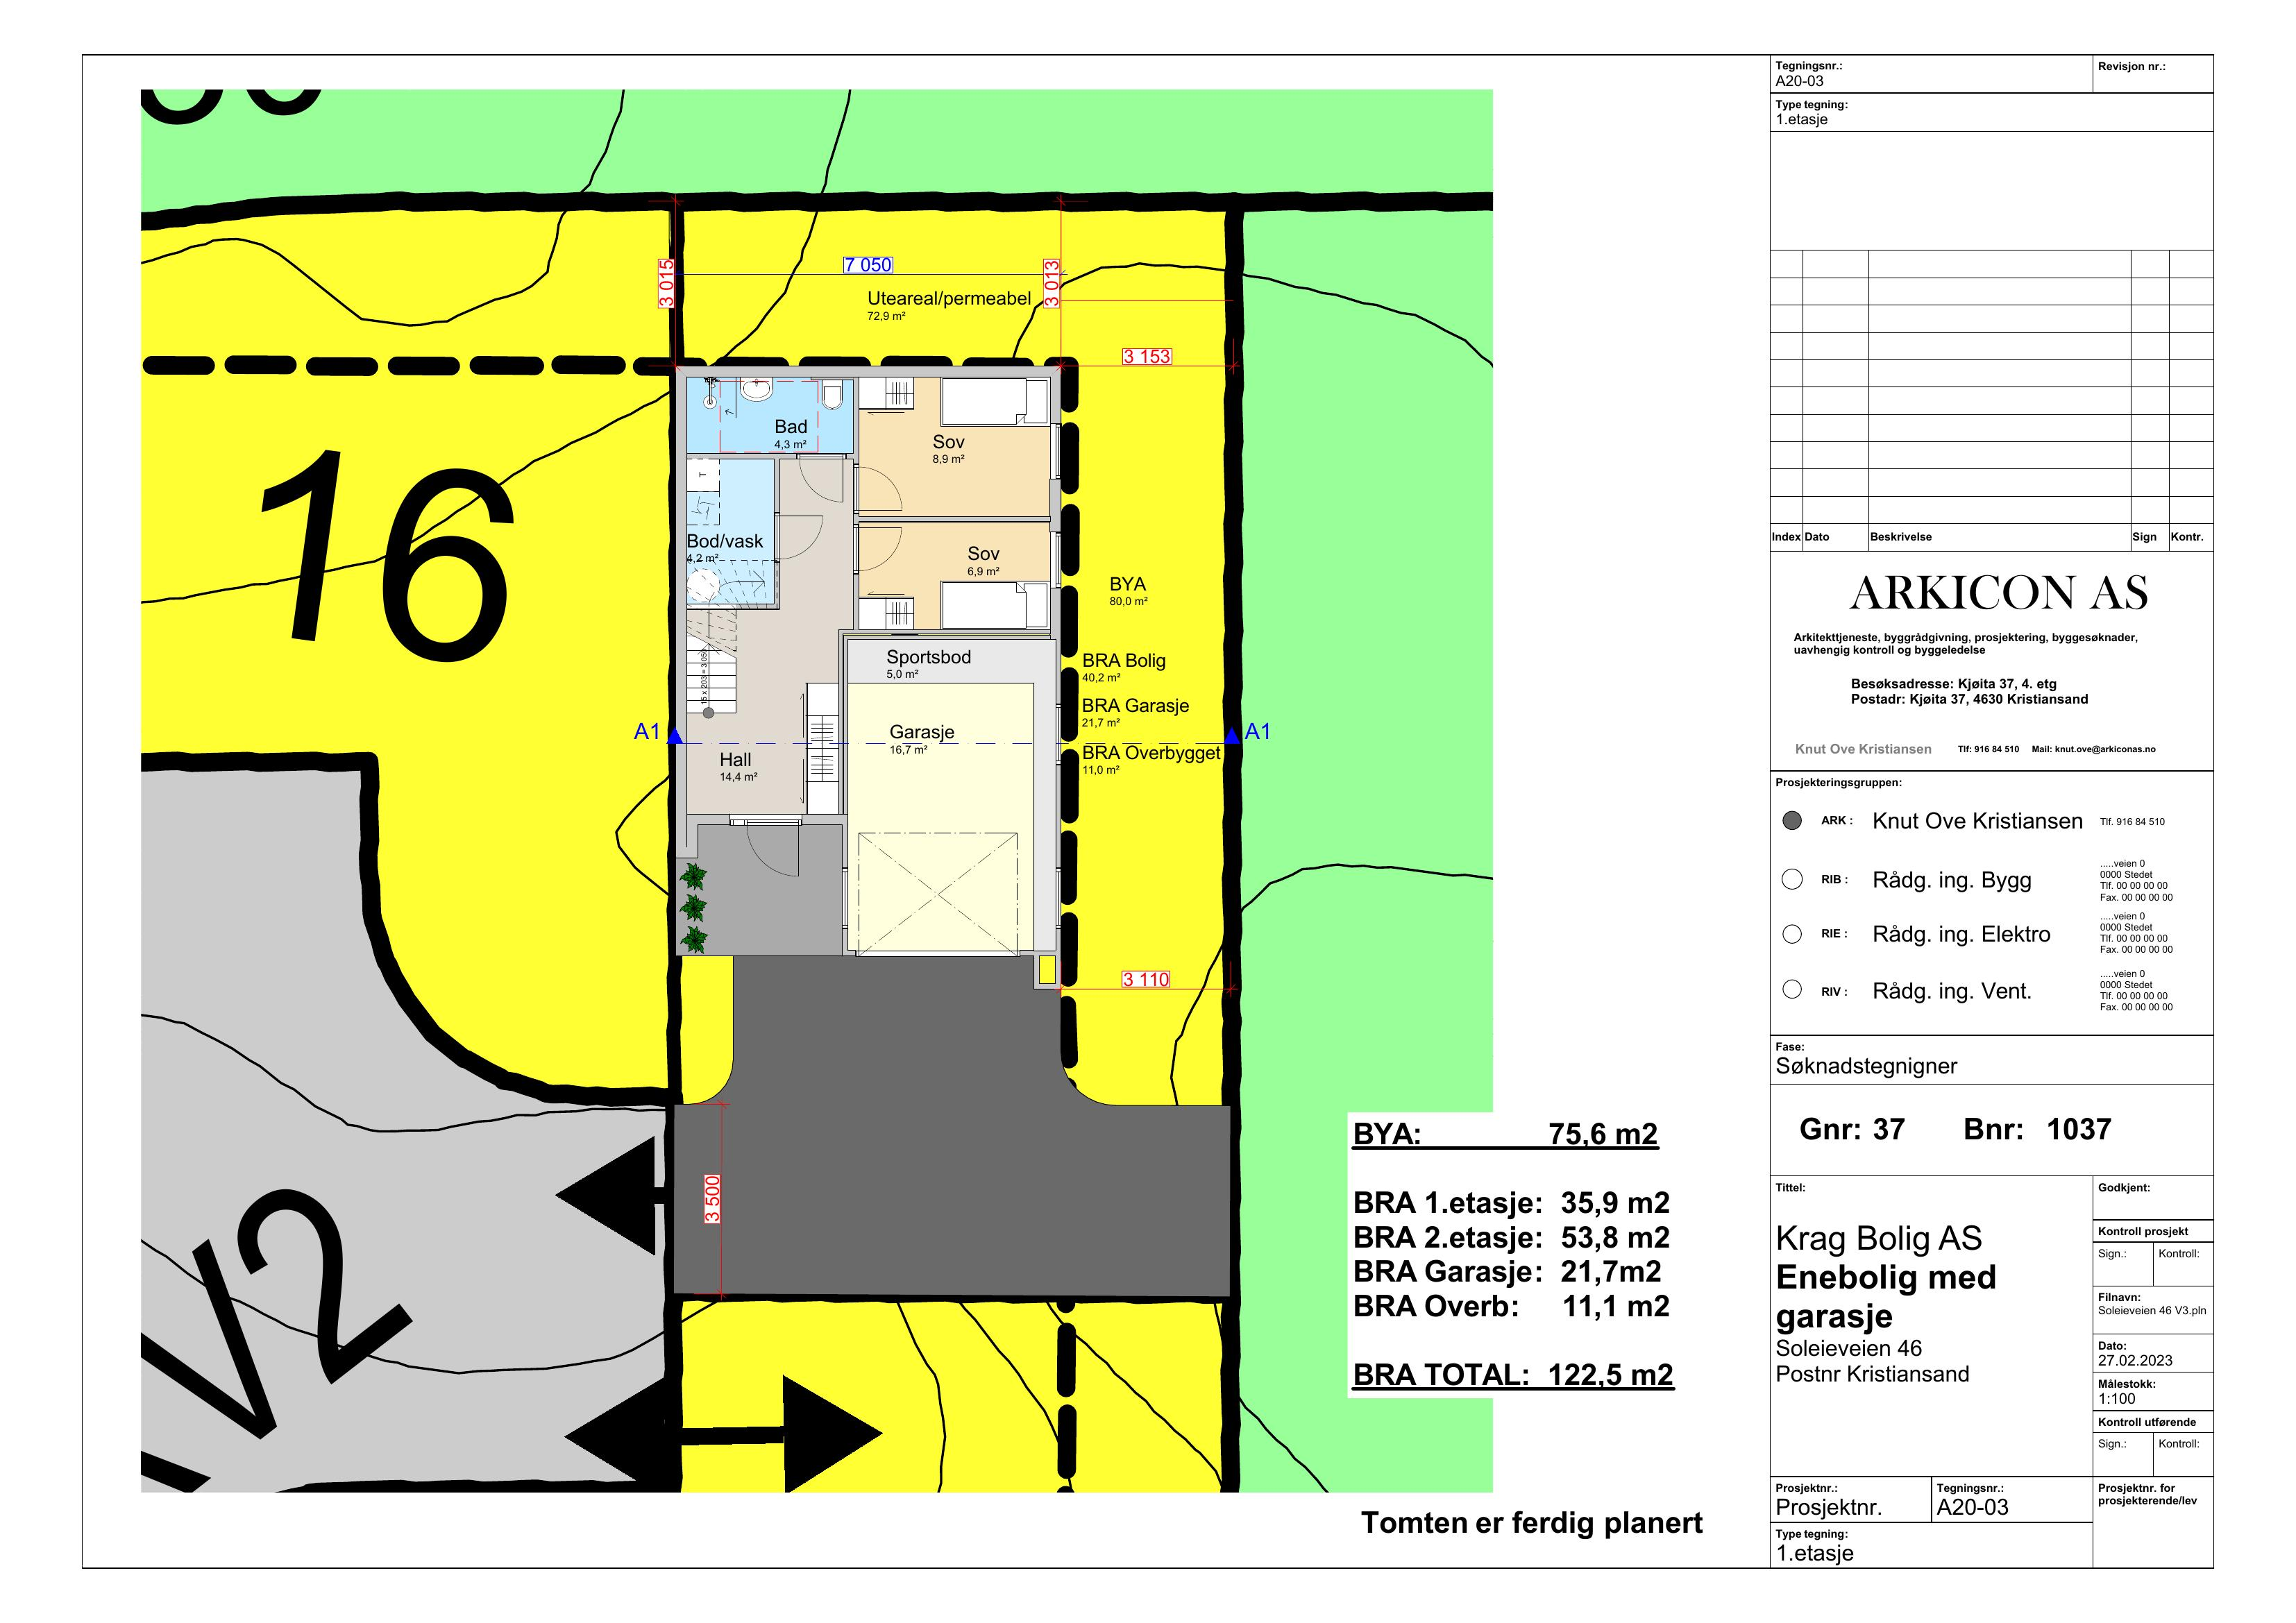plantegning: (678, 365, 1054, 941)
